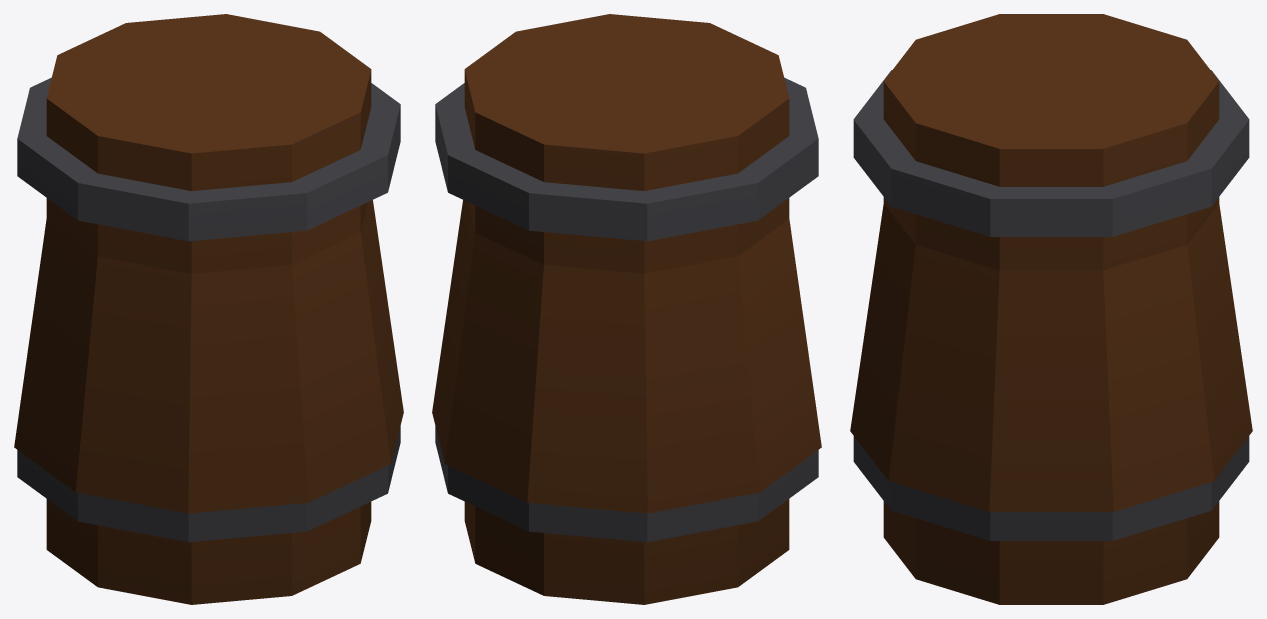
File: barrel.glb
3 renders of one model, left to right at view 1: azimuth 30°, elevation 25°; view 2: azimuth 150°, elevation 25°; view 3: azimuth 270°, elevation 25°, orthographic.
Visible parts, largest first — view 1: barrel; view 2: barrel; view 3: barrel.
Boxes of the visible parts, bbox=[...] form: barrel: bbox=[14, 14, 403, 604]; barrel: bbox=[432, 14, 821, 604]; barrel: bbox=[850, 14, 1252, 604].
Size of the model in its own units: 0.2283 by 0.3 by 0.24.
